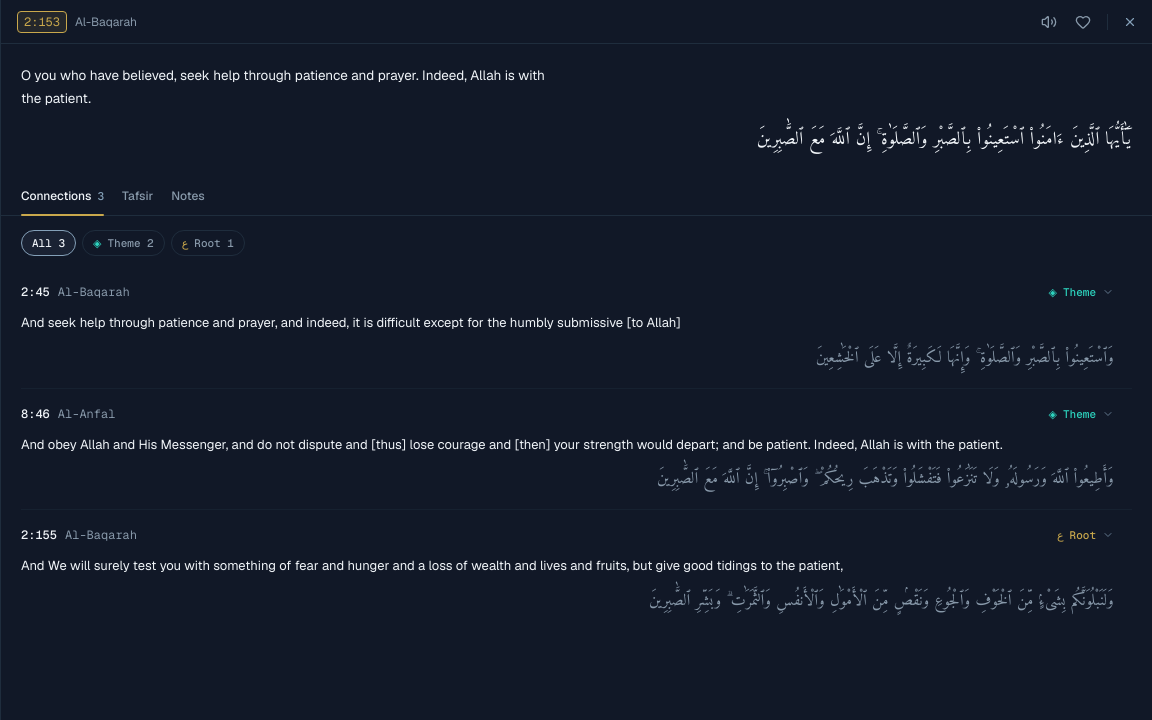
Test case: ContextSidebar — reading views › shows kind filters only when the verse has more than one kind, never with a zero
Click the button "ع Root 1". click: (208, 243)
box: [171, 230, 245, 256]
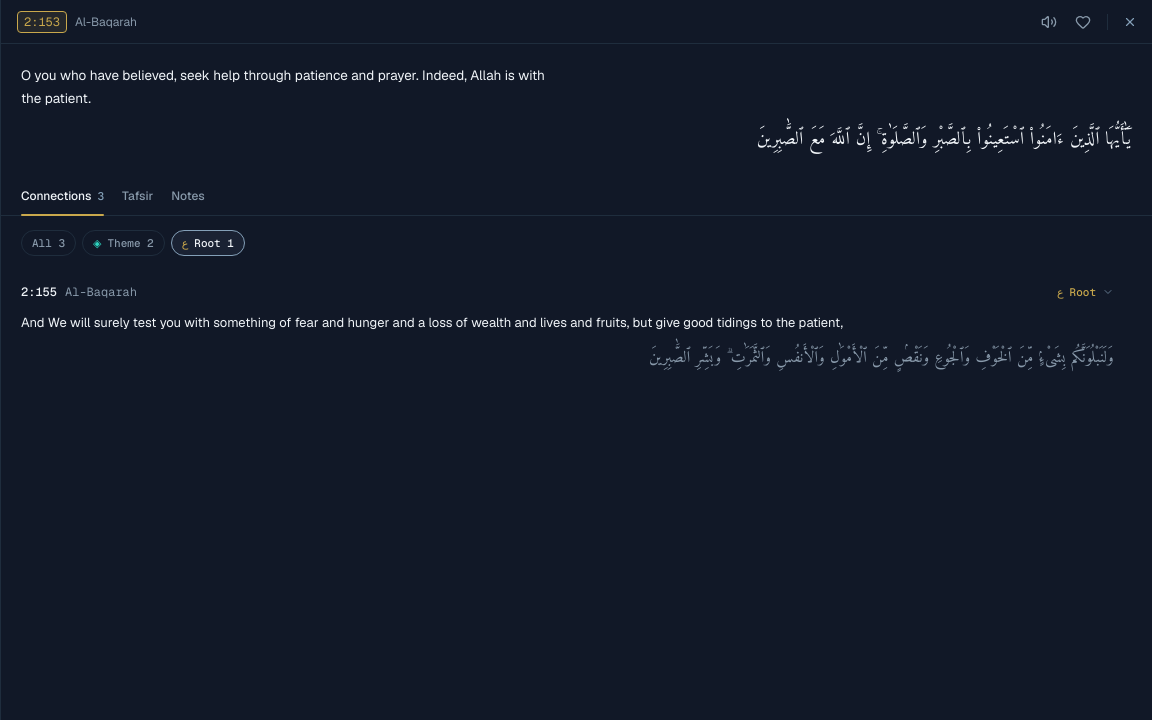
Expected: the text "And We will surely test you with something of fear and hunger and a loss of wealth and lives and fruits, but give good t" is shown, [21, 314, 843, 331]
Expected: the text "And seek help through patience and prayer, and indeed, it is difficult except for the humbly submissive [to Allah]" is gone
